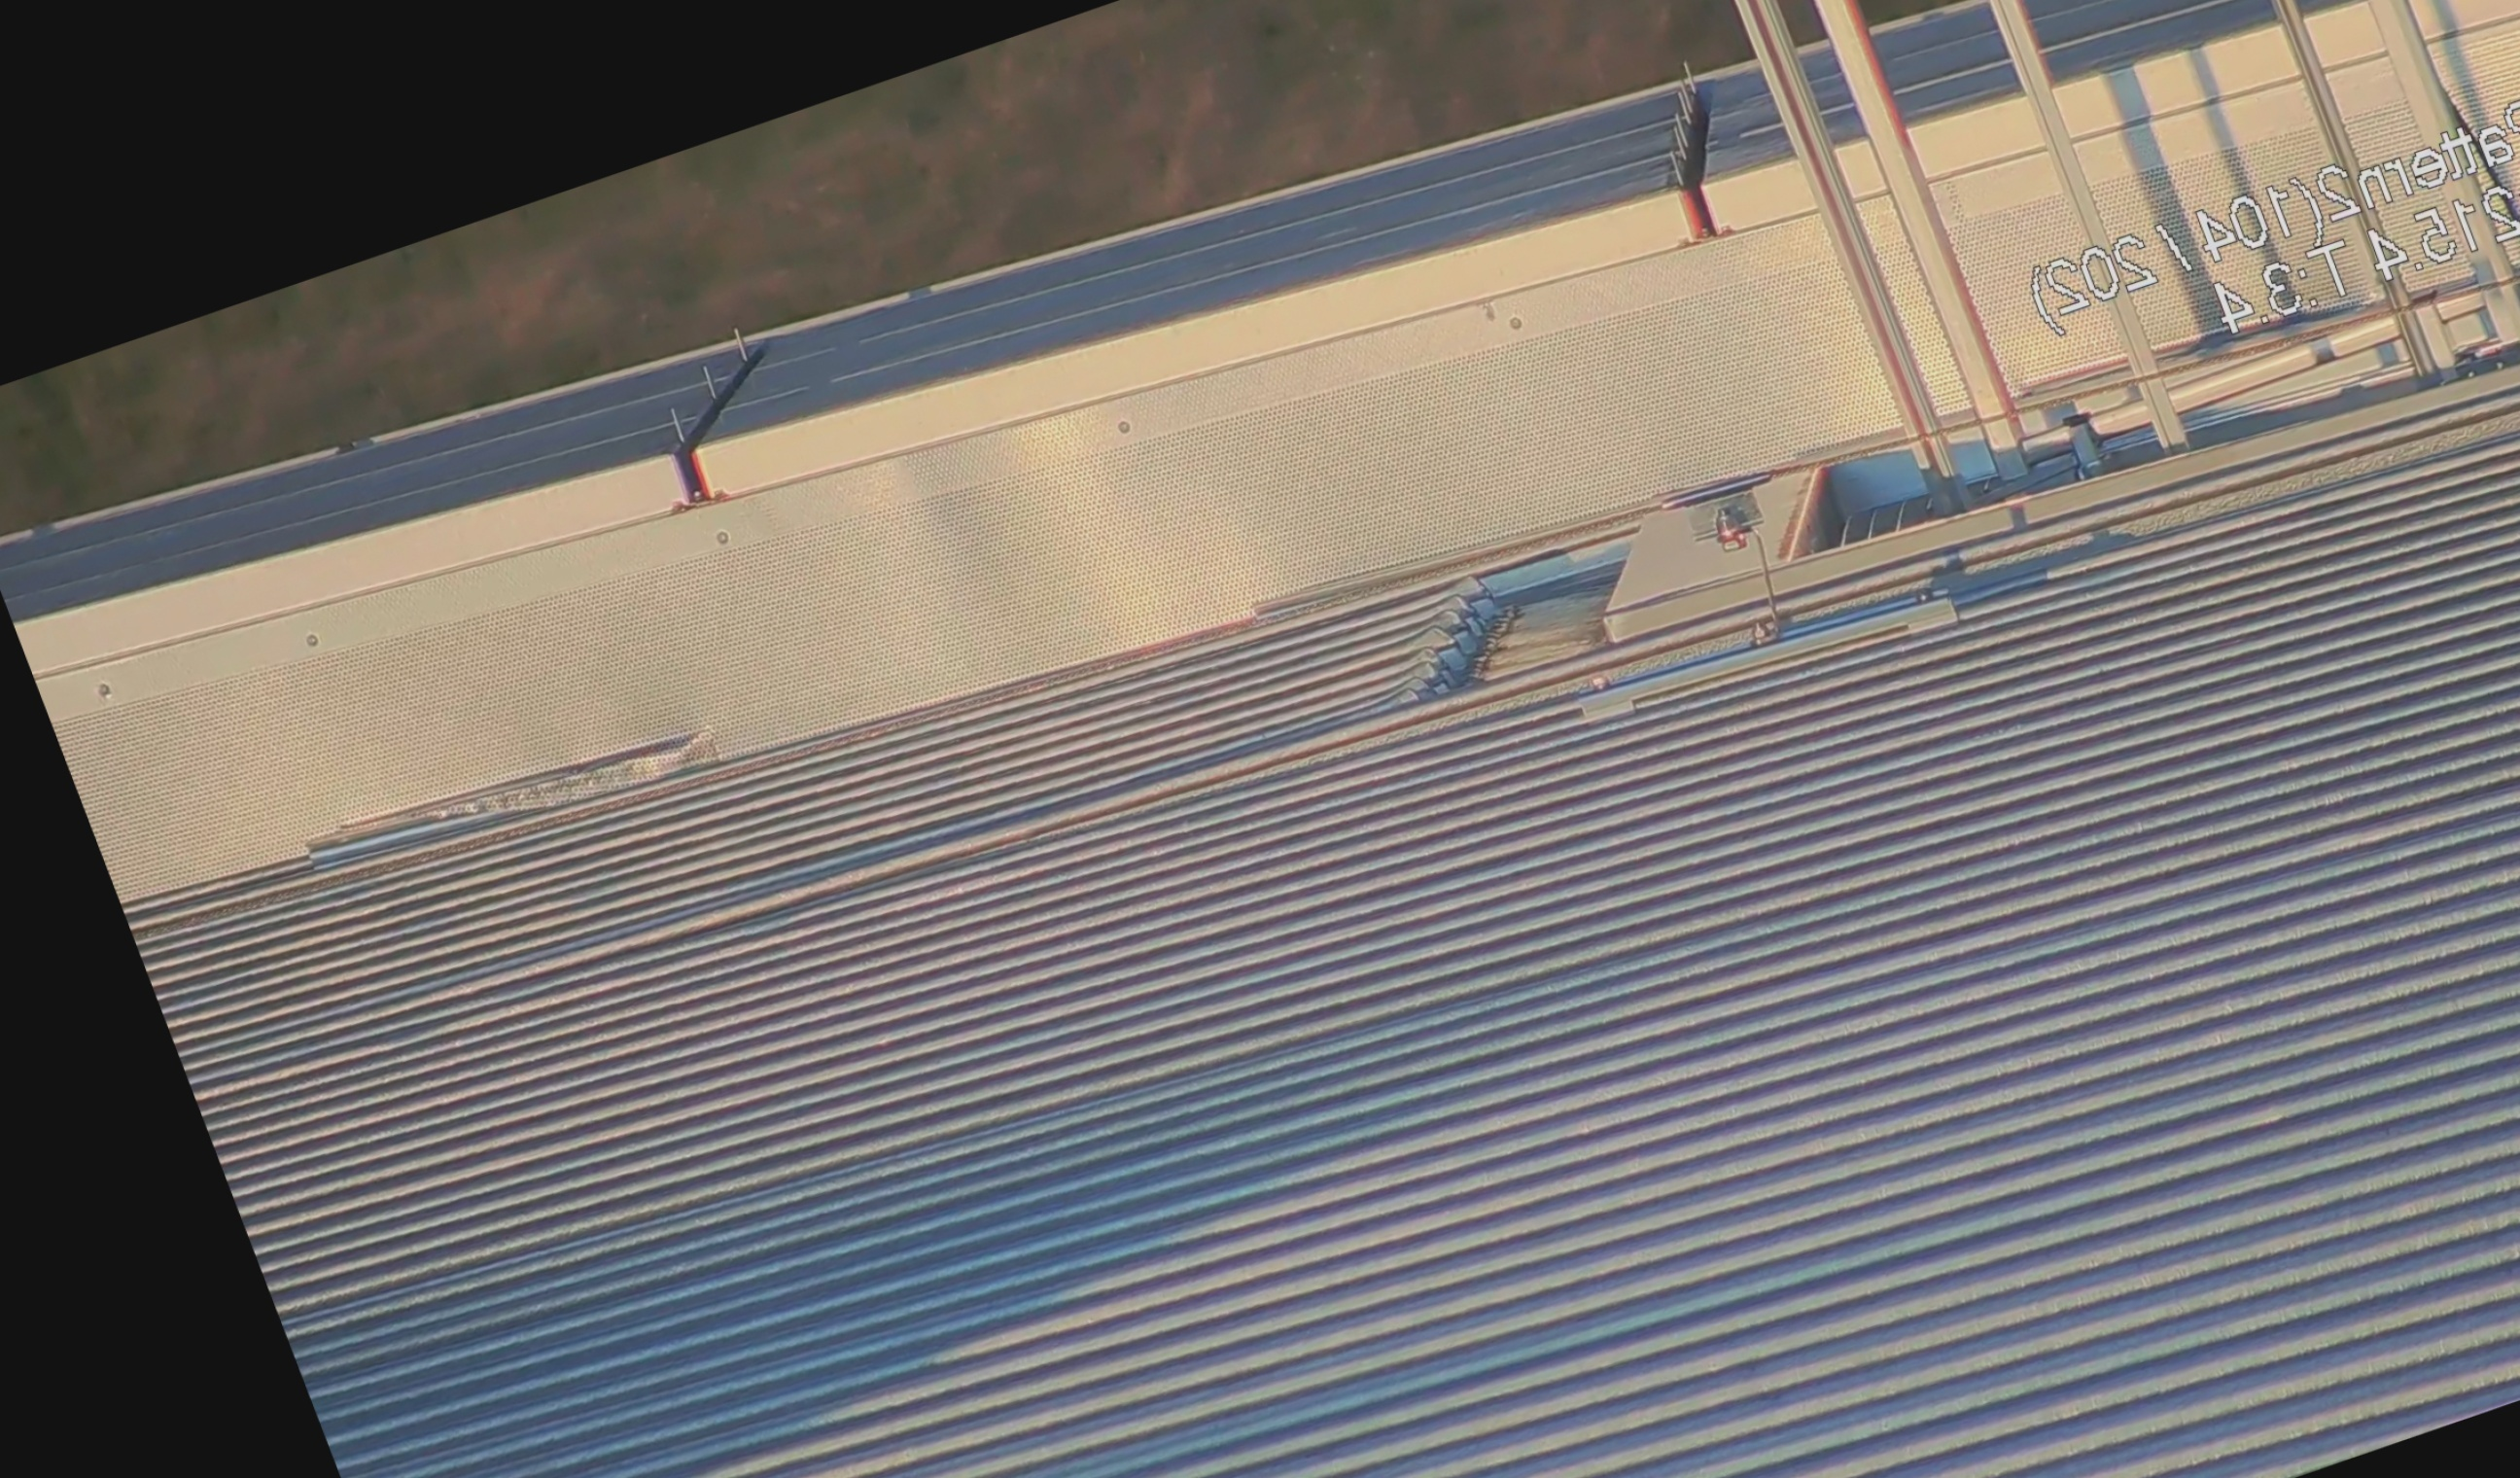Other: (1623, 58, 1773, 255)
